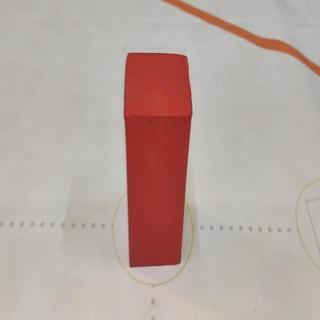redbox: (123, 49, 194, 269)
